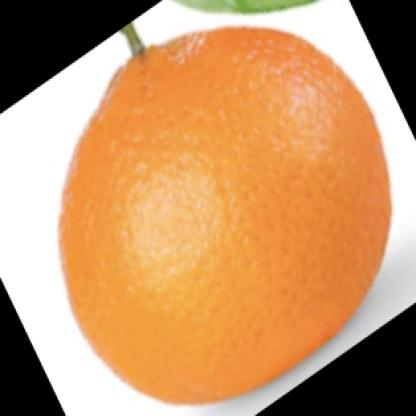orange: (51, 17, 396, 406)
